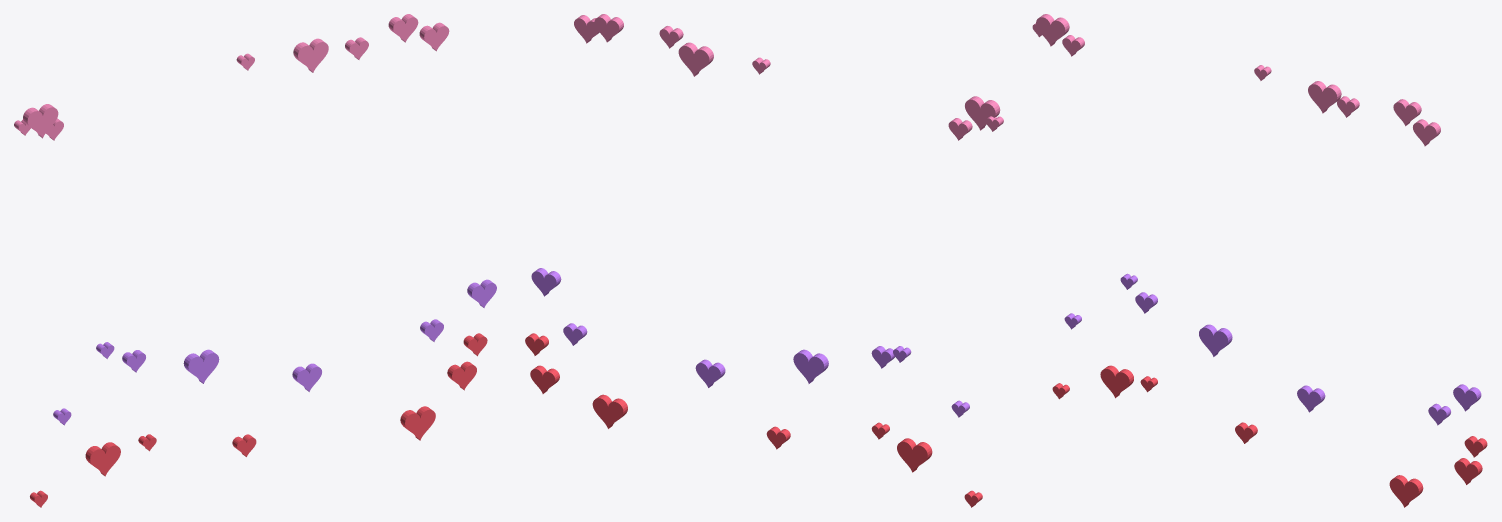
The model's file is love-hearts.glb.
3 views of the same model, side by side, from view 1: azimuth 30°, elevation 25°; view 2: azimuth 150°, elevation 25°; view 3: azimuth 330°, elevation 25° (orthographic). The views are drawn at different scales.
Visible parts, largest first — view 1: floating heart (×10); view 2: floating heart (×9); view 3: floating heart (×5).
Part boxes in pixels (box(x1,y1,x2,y2)): floating heart (×10): box(23, 14, 496, 476); floating heart (×9): box(530, 14, 1000, 472); floating heart (×5): box(1036, 14, 1423, 507).
Bounding box in the file's own units: 4.14 × 3.52 × 0.23.
